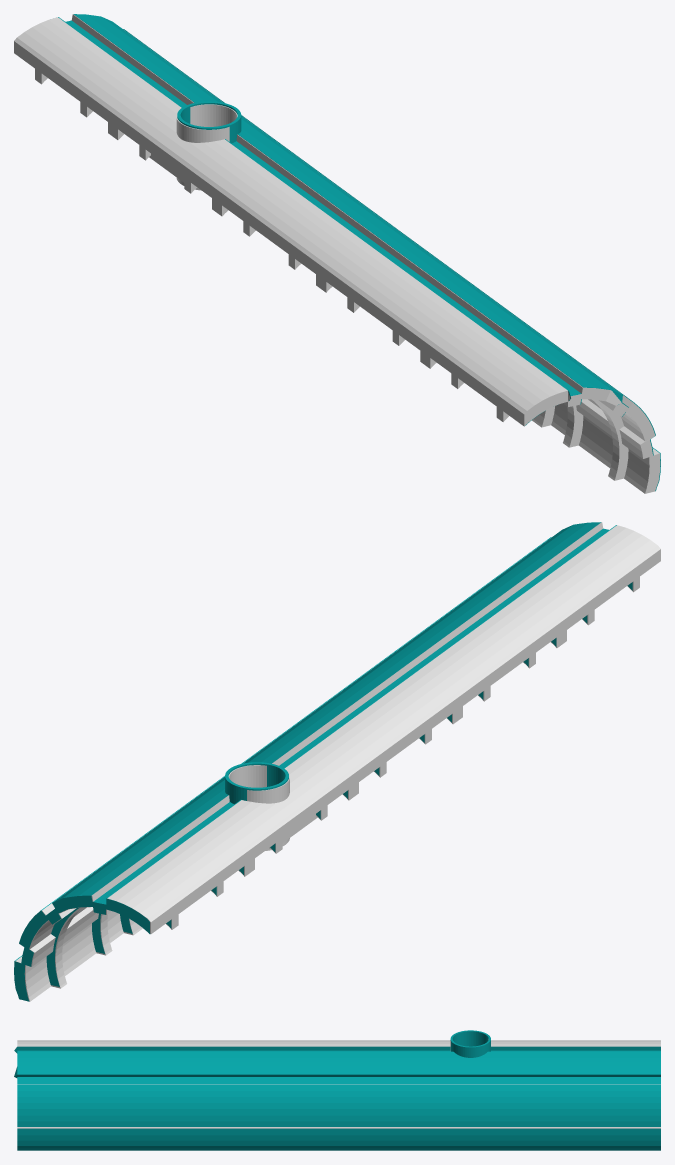
3 views of the same model, one above another, from view 1: azimuth 30°, elevation 25°; view 2: azimuth 150°, elevation 25°; view 3: azimuth 270°, elevation 25° (orthographic). The views are drawn at different scales.
Parts seen in each view (by area): view 1: Tunnel, UTM_Tunnel.001, Tunnel Supports, Entrance, UTM_Entrance.001; view 2: Tunnel, UTM_Tunnel.001, Tunnel Supports, UTM_TunnelSupports.001, Entrance, UTM_Entrance.001; view 3: UTM_Tunnel.001, Tunnel, UTM_Entrance.001.
Boxes of the visible parts, x1,y1,x2,y2 form: Tunnel: (14,14,660,493); UTM_Tunnel.001: (58,14,660,491); Tunnel Supports: (35,69,628,480); Entrance: (176,104,237,190); UTM_Entrance.001: (177,101,241,143); Tunnel: (15,522,660,1001); UTM_Tunnel.001: (14,522,616,1001); Tunnel Supports: (51,577,639,988); UTM_TunnelSupports.001: (46,582,632,986); Entrance: (228,765,289,850); UTM_Entrance.001: (225,762,288,804); UTM_Tunnel.001: (14,1046,660,1150); Tunnel: (14,1040,660,1128); UTM_Entrance.001: (450,1030,490,1057).
Size of the model in its own units: 459 by 431 by 2981.
